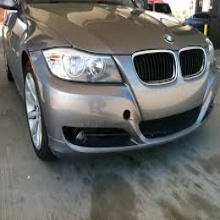no damage: (2, 1, 215, 161)
